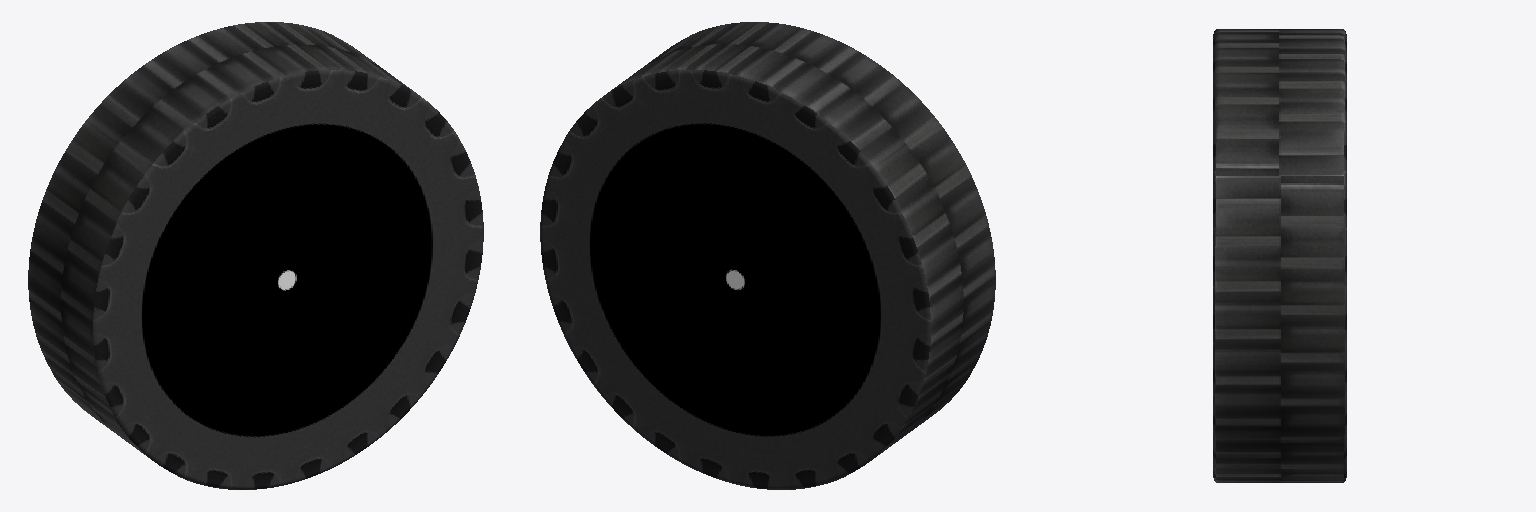
3 views of the same model, side by side, from view 1: azimuth 30°, elevation 25°; view 2: azimuth 150°, elevation 25°; view 3: azimuth 270°, elevation 25° (orthographic).
Size of the model in its own units: 0.0698 by 0.0704 by 0.0206.
1 materials, 1 textured.